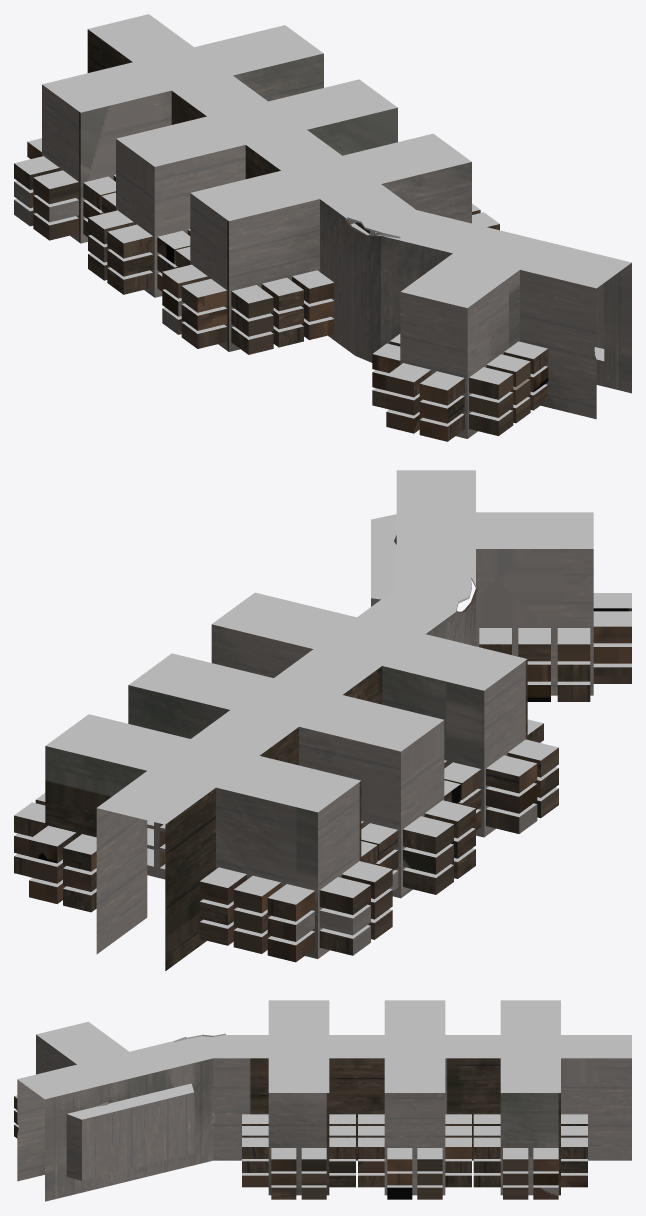
The model's file is OssuaryW.fbx.
3 views of the same model, one above another, from view 1: azimuth 30°, elevation 25°; view 2: azimuth 150°, elevation 25°; view 3: azimuth 270°, elevation 25° (orthographic). The views are drawn at different scales.
Visible parts, largest first — view 1: Ossuary.001, Ossuary.032, Ossuary.026, Ossuary.052, Ossuary, Ossuary.053, Ossuary.034, Ossuary.043, Ossuary.047, Ossuary.044, Ossuary.035, Ossuary.028 (+13 smaller); view 2: Ossuary.001, Ossuary.033, Ossuary.051, Ossuary.037, Ossuary.047, Ossuary.043, Ossuary.034, Ossuary.046, Ossuary.036, Ossuary.002, Ossuary.009, Ossuary.045 (+15 smaller); view 3: Ossuary.001, Ossuary.028, Ossuary.009, Ossuary.041, Ossuary.048, Ossuary.038, Ossuary.027, Ossuary.008, Ossuary.019, Ossuary, Ossuary.050, Ossuary.039 (+15 smaller).
Boxes of the visible parts, x1,y1,x2,y2 form: Ossuary.001: [42, 14, 631, 307]; Ossuary.032: [229, 199, 334, 354]; Ossuary.026: [320, 199, 452, 362]; Ossuary.052: [386, 292, 467, 441]; Ossuary: [520, 270, 596, 419]; Ossuary.053: [467, 270, 548, 438]; Ossuary.034: [14, 84, 80, 243]; Ossuary.043: [88, 139, 154, 297]; Ossuary.047: [162, 193, 228, 351]; Ossuary.044: [154, 145, 245, 297]; Ossuary.035: [80, 90, 171, 243]; Ossuary.028: [595, 263, 631, 393]; Ossuary.001: [46, 470, 593, 824]; Ossuary.033: [199, 787, 317, 962]; Ossuary.051: [476, 549, 593, 701]; Ossuary.037: [29, 746, 146, 912]; Ossuary.047: [484, 659, 558, 836]; Ossuary.043: [401, 720, 475, 897]; Ossuary.034: [318, 781, 392, 958]; Ossuary.046: [382, 666, 484, 837]; Ossuary.036: [299, 727, 400, 898]; Ossuary.002: [165, 788, 215, 970]; Ossuary.009: [96, 808, 147, 954]; Ossuary.045: [211, 624, 312, 677]; Ossuary.001: [17, 1000, 631, 1099]; Ossuary.028: [45, 1058, 213, 1201]; Ossuary.009: [561, 1058, 631, 1160]; Ossuary.041: [384, 1093, 445, 1199]; Ossuary.048: [268, 1093, 329, 1199]; Ossuary.038: [500, 1093, 560, 1199]; Ossuary.027: [210, 1058, 268, 1160]; Ossuary.008: [445, 1058, 500, 1160]; Ossuary.019: [329, 1058, 384, 1160]; Ossuary: [17, 1079, 44, 1181]; Ossuary.050: [67, 1083, 193, 1119]; Ossuary.039: [473, 1124, 500, 1187].
Size of the model in its own units: 1515 by 635 by 3429.
